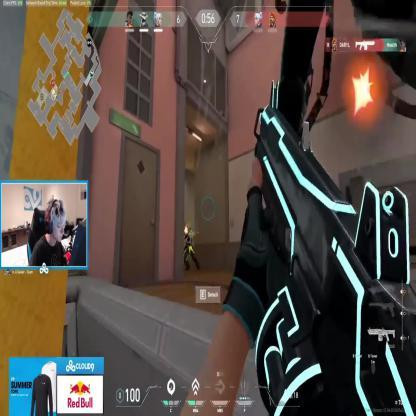enemy: (182, 222, 200, 272)
enemy_head: (186, 224, 190, 232)
